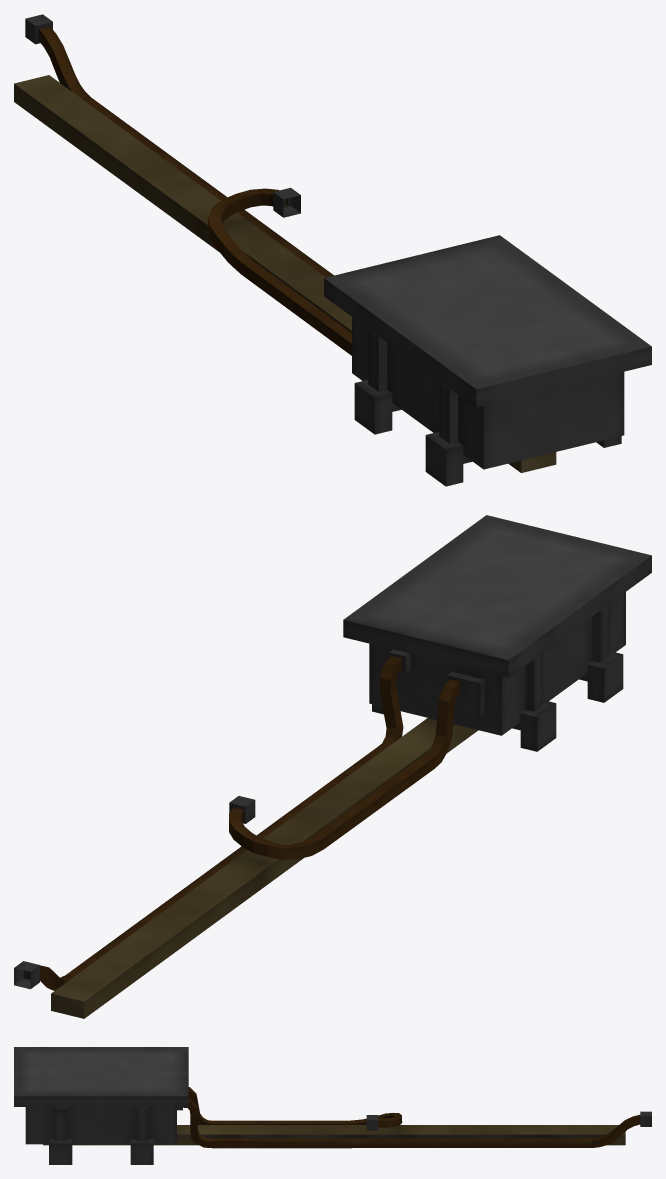
File: mvp_ir_sensor.obj
3 views of the same model, one above another, from view 1: azimuth 30°, elevation 25°; view 2: azimuth 150°, elevation 25°; view 3: azimuth 270°, elevation 25° (orthographic). The views are drawn at different scales.
Visible parts, largest first — view 1: RAIL_BASE_sensor, RAIL_LEFT_sensor; view 2: RAIL_BASE_sensor; view 3: RAIL_BASE_sensor, RAIL_LEFT_sensor.
Boxes of the visible parts, <box> form: RAIL_BASE_sensor: <box>14,26,651,486</box>; RAIL_LEFT_sensor: <box>273,187,300,217</box>; RAIL_BASE_sensor: <box>26,515,651,1018</box>; RAIL_BASE_sensor: <box>14,1047,640,1164</box>; RAIL_LEFT_sensor: <box>366,1115,378,1130</box>.
Bounding box in the file's own units: 0.625 × 0.4063 × 3.42.
1 material, 1 textured.
